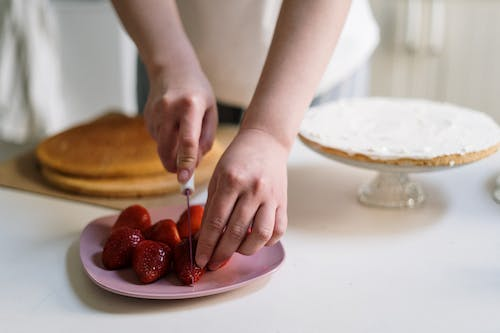knife: (179, 174, 197, 293)
